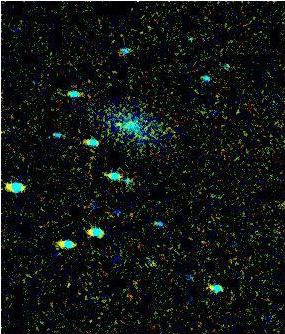star: (103, 109, 133, 139)
